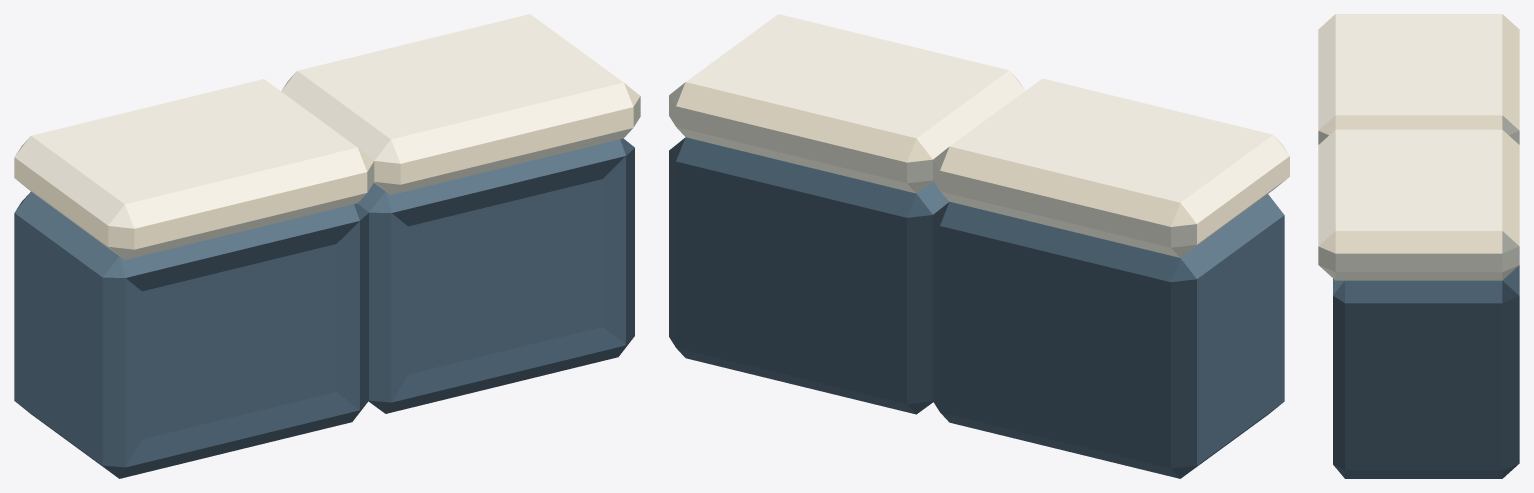
File: Terrain_TopRun2.gltf
The picture shows the model from 3 angles, left to right: view 1: azimuth 30°, elevation 25°; view 2: azimuth 150°, elevation 25°; view 3: azimuth 270°, elevation 25°; orthographic projection. The views are drawn at different scales.
Parts seen in each view (by area): view 1: Terrain_TopRun2_baked; view 2: Terrain_TopRun2_baked; view 3: Terrain_TopRun2_baked.
Part boxes in pixels (x1=…): Terrain_TopRun2_baked: x1=14, y1=14, x2=640, y2=478; Terrain_TopRun2_baked: x1=669, y1=14, x2=1289, y2=478; Terrain_TopRun2_baked: x1=1318, y1=14, x2=1519, y2=478.
Size of the model in its own units: 2 by 1 by 0.735.
